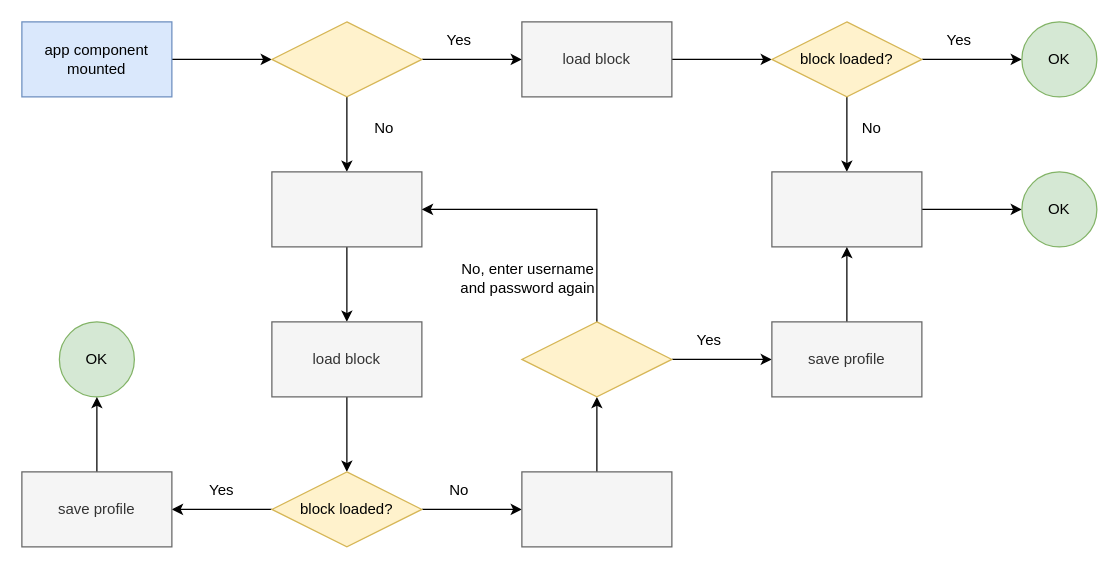
The diagram is 1119 pixels wide and 569 high, and some of its shapes have lost their labels. The box of each missing label's shape, as (x1, y1, x2, y2) in pixels:
continue?: (521, 321, 672, 397)
create and save empty block: (771, 171, 922, 247)
profile exists?: (271, 21, 422, 97)
show login popup: (271, 171, 422, 247)
show register popup: (521, 471, 672, 547)
